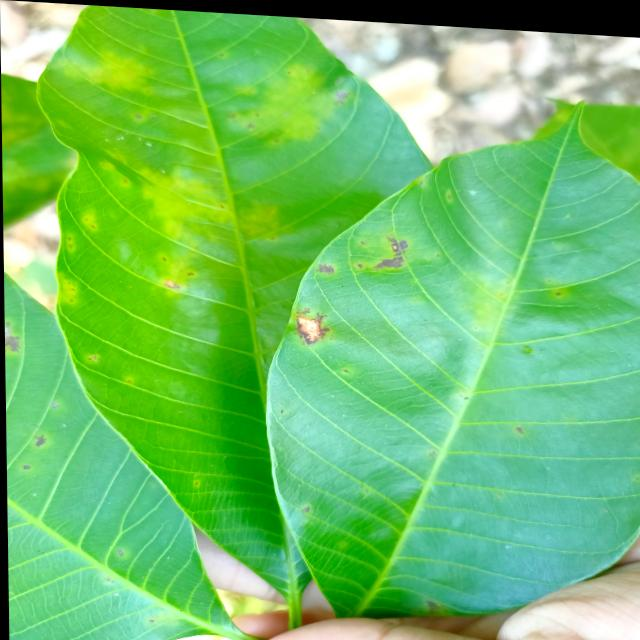Colletotrichum: (21, 465, 29, 469)
